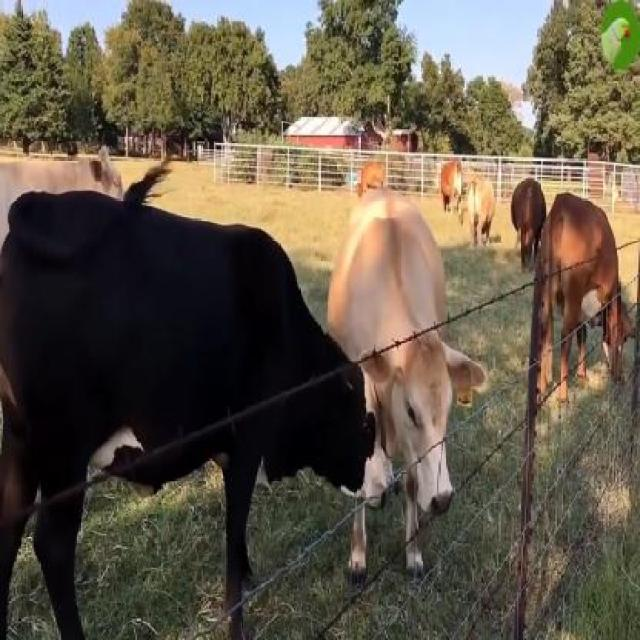Cow: (328, 192, 484, 580)
